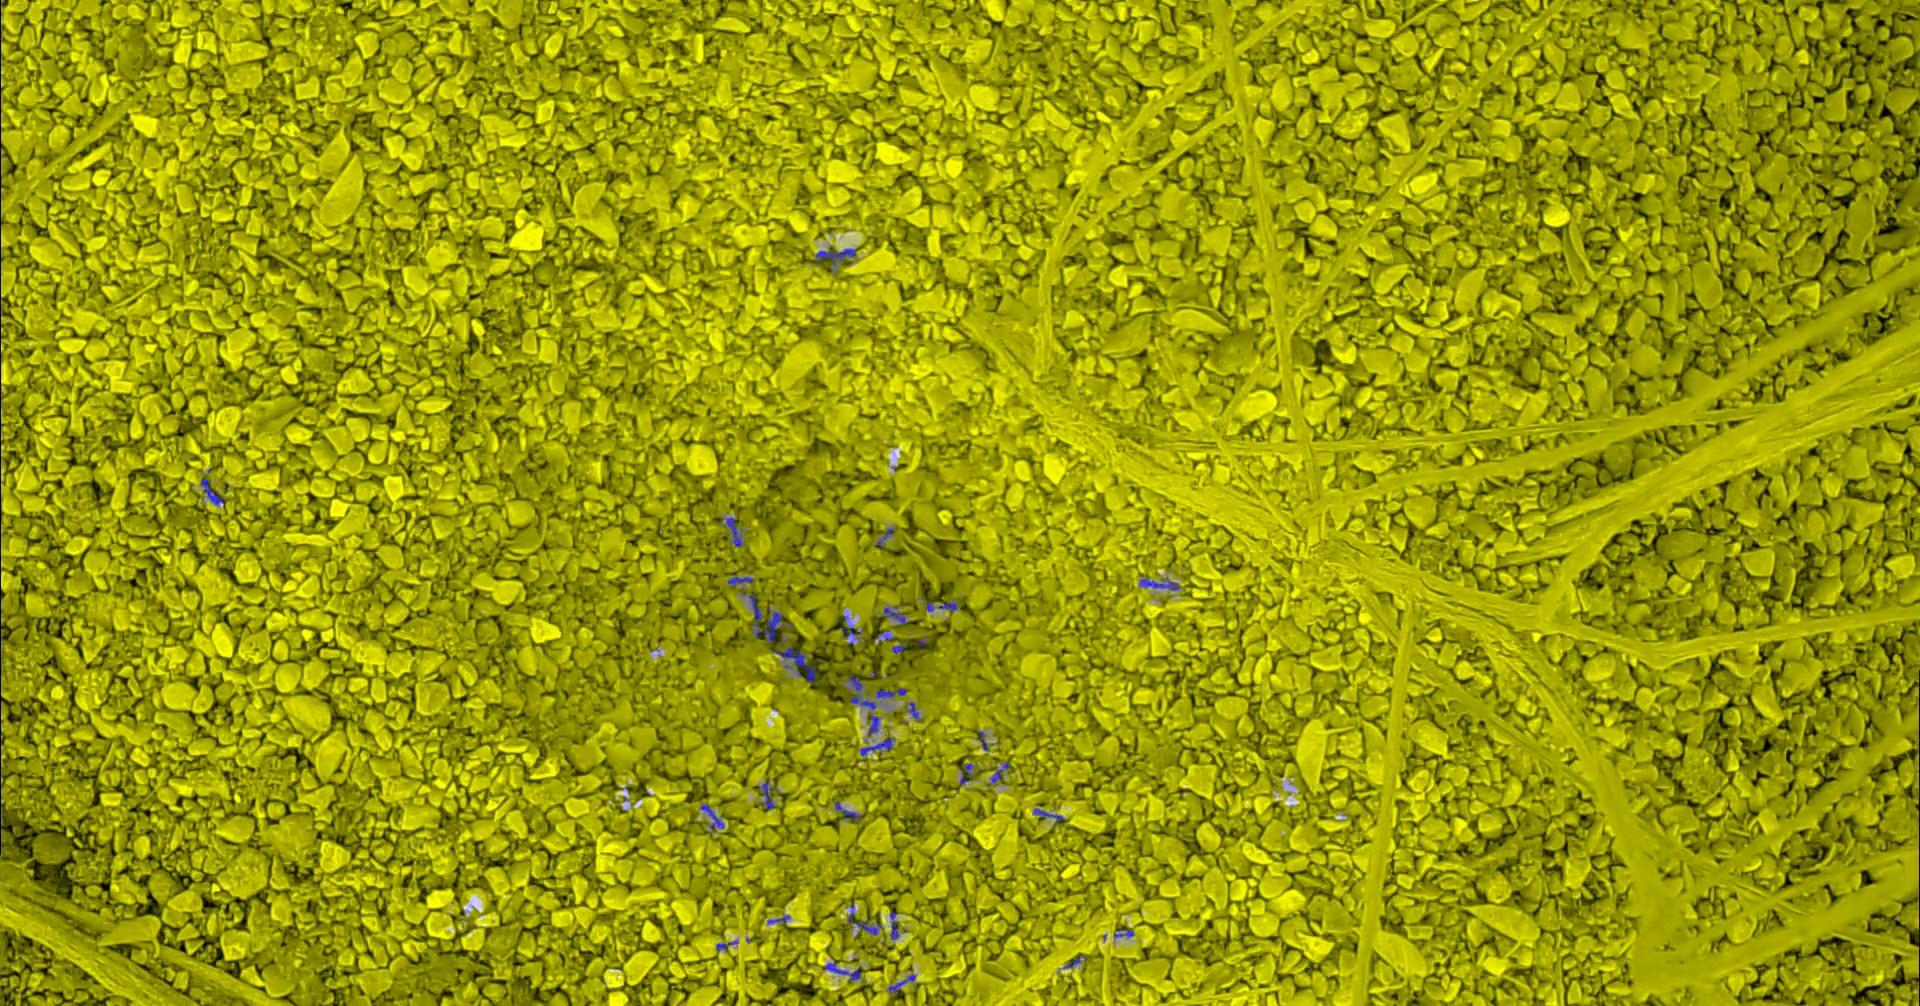ant: (748, 593, 789, 644), (773, 647, 815, 681), (847, 903, 881, 935), (847, 674, 875, 709), (823, 960, 861, 981), (815, 246, 855, 265), (858, 735, 894, 754), (201, 478, 223, 506), (698, 804, 723, 829), (721, 517, 742, 546), (888, 973, 916, 993), (1139, 575, 1178, 589), (834, 801, 861, 822), (757, 781, 775, 809), (989, 761, 1010, 782), (883, 605, 905, 624), (1032, 808, 1065, 821), (875, 527, 894, 546), (728, 572, 753, 586), (875, 687, 905, 699), (924, 601, 957, 611), (959, 763, 973, 784), (839, 624, 860, 636), (889, 911, 898, 939), (867, 715, 879, 735), (1112, 927, 1133, 937), (891, 640, 907, 653)
